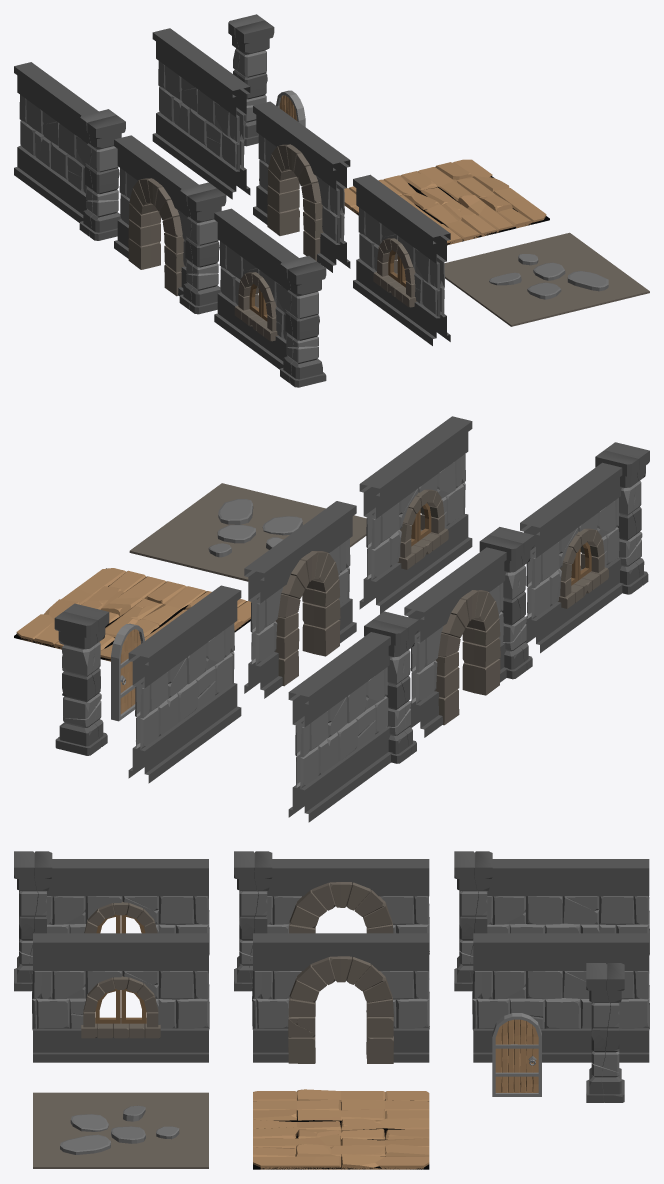
Rendered from FreePack_Demo_Structures_v1.fbx.
3 views of the same model, one above another, from view 1: azimuth 30°, elevation 25°; view 2: azimuth 150°, elevation 25°; view 3: azimuth 270°, elevation 25° (orthographic). The views are drawn at different scales.
Visible parts, largest first — view 1: DEMO_Wall_Plain_02.004, DEMO_Wall_Plain_02.001, DEMO_Wall_Plain_02.003, DEMO_Floor_Stone_01, DEMO_Wall_Plain_01, DEMO_Wall_Window_01, DEMO_Wall_Doorway_01, DEMO_Floor_Wood_01, DEMO_Wall_Plain_02.002, DEMO_Door_Wood_01; view 2: DEMO_Wall_Plain_02.001, DEMO_Wall_Plain_02.004, DEMO_Wall_Plain_02.003, DEMO_Wall_Plain_01, DEMO_Wall_Window_01, DEMO_Wall_Doorway_01, DEMO_Floor_Stone_01, DEMO_Floor_Wood_01, DEMO_Wall_Plain_02.002, DEMO_Door_Wood_01; view 3: DEMO_Wall_Window_01, DEMO_Wall_Doorway_01, DEMO_Wall_Plain_01, DEMO_Wall_Plain_02.001, DEMO_Wall_Plain_02.004, DEMO_Wall_Plain_02.003, DEMO_Floor_Wood_01, DEMO_Floor_Stone_01, DEMO_Wall_Plain_02.002, DEMO_Door_Wood_01.
Part boxes in pixels (x1=…): DEMO_Wall_Plain_02.004: x1=214, y1=208, x2=326, y2=387; DEMO_Wall_Plain_02.001: x1=14, y1=62, x2=125, y2=240; DEMO_Wall_Plain_02.003: x1=114, y1=135, x2=226, y2=314; DEMO_Floor_Stone_01: x1=444, y1=232, x2=649, y2=326; DEMO_Wall_Plain_01: x1=152, y1=28, x2=250, y2=199; DEMO_Wall_Window_01: x1=353, y1=174, x2=450, y2=345; DEMO_Wall_Doorway_01: x1=253, y1=101, x2=350, y2=272; DEMO_Floor_Wood_01: x1=344, y1=159, x2=549, y2=245; DEMO_Wall_Plain_02.002: x1=228, y1=14, x2=274, y2=146; DEMO_Door_Wood_01: x1=276, y1=90, x2=305, y2=126; DEMO_Wall_Plain_02.001: x1=288, y1=611, x2=418, y2=822; DEMO_Wall_Plain_02.004: x1=520, y1=442, x2=649, y2=653; DEMO_Wall_Plain_02.003: x1=404, y1=527, x2=534, y2=737; DEMO_Wall_Plain_01: x1=128, y1=585, x2=241, y2=783; DEMO_Wall_Window_01: x1=359, y1=416, x2=472, y2=613; DEMO_Wall_Doorway_01: x1=244, y1=501, x2=356, y2=698; DEMO_Floor_Stone_01: x1=129, y1=483, x2=366, y2=581; DEMO_Floor_Wood_01: x1=14, y1=568, x2=251, y2=661; DEMO_Wall_Plain_02.002: x1=54, y1=603, x2=109, y2=755; DEMO_Door_Wood_01: x1=111, y1=623, x2=144, y2=721; DEMO_Wall_Window_01: x1=32, y1=933, x2=209, y2=1062; DEMO_Wall_Doorway_01: x1=252, y1=933, x2=429, y2=1063; DEMO_Wall_Plain_01: x1=472, y1=933, x2=649, y2=1062; DEMO_Wall_Plain_02.001: x1=454, y1=851, x2=649, y2=991; DEMO_Wall_Plain_02.004: x1=14, y1=851, x2=209, y2=991; DEMO_Wall_Plain_02.003: x1=234, y1=851, x2=429, y2=991; DEMO_Floor_Wood_01: x1=253, y1=1089, x2=429, y2=1169; DEMO_Floor_Stone_01: x1=33, y1=1092, x2=208, y2=1168; DEMO_Wall_Plain_02.002: x1=586, y1=963, x2=624, y2=1102; DEMO_Door_Wood_01: x1=492, y1=1013, x2=541, y2=1096.
Bounding box in the file's own units: 1044 × 320 × 1444.
